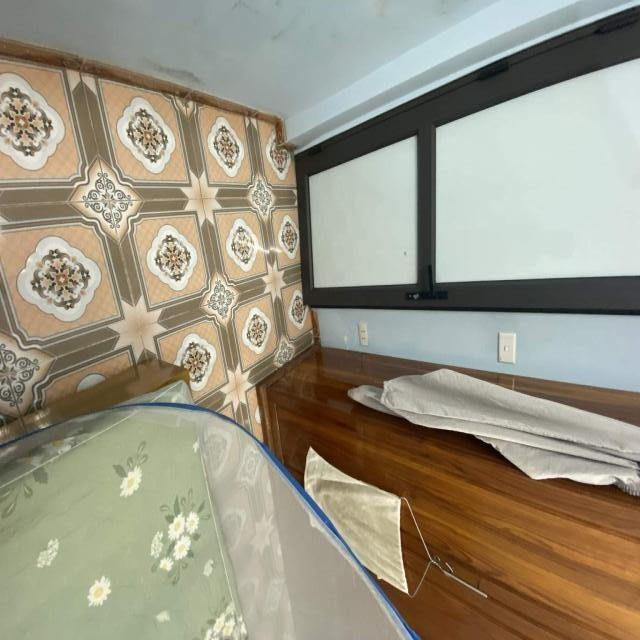outlet: (358, 323, 369, 345)
